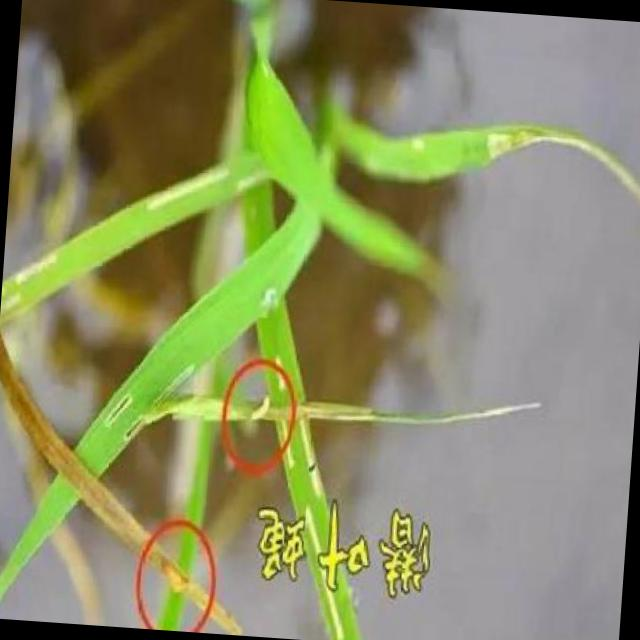whorl-maggot: (248, 386, 272, 429)
